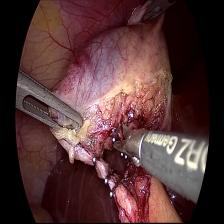Grasper: (13, 71, 84, 142)
Scissors: (113, 123, 147, 163)
